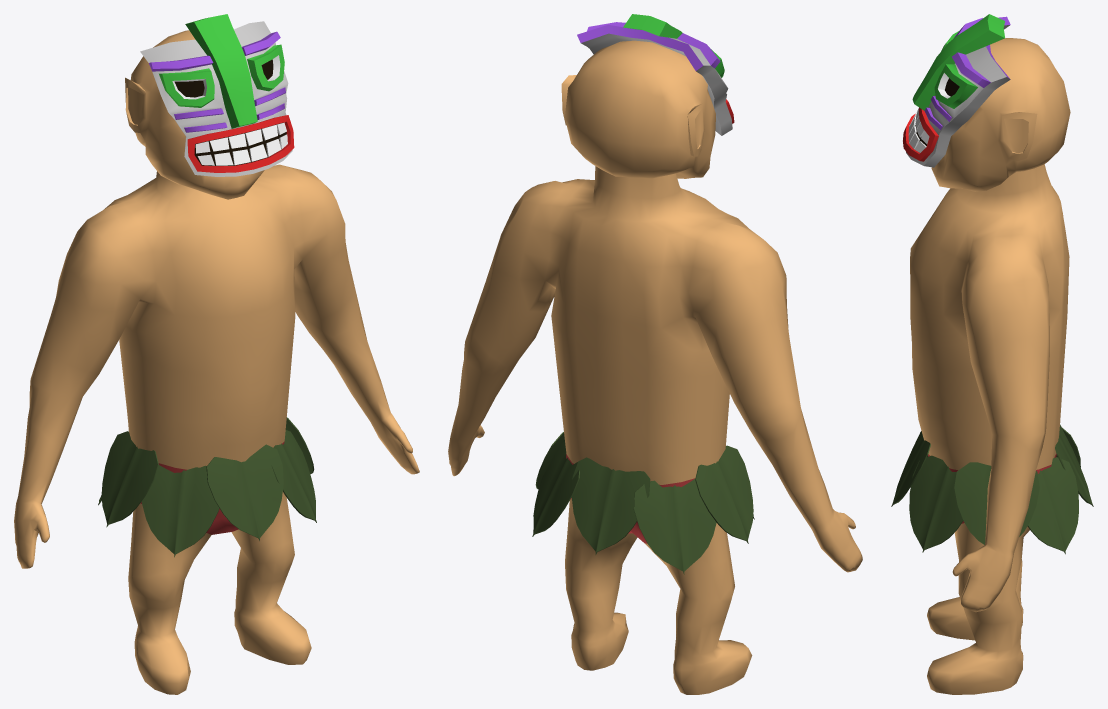
Rendered from locals_00.fbx.
3 renders of one model, left to right at view 1: azimuth 30°, elevation 25°; view 2: azimuth 150°, elevation 25°; view 3: azimuth 270°, elevation 25°, orthographic. The views are drawn at different scales.
Parts seen in each view (by area): view 1: min001; view 2: min001; view 3: min001.
Part boxes in pixels (bbox=[...]): min001: bbox=[14, 14, 419, 694]; min001: bbox=[448, 14, 862, 694]; min001: bbox=[891, 14, 1093, 694].
Size of the model in its own units: 78.9 by 123 by 35.48.
